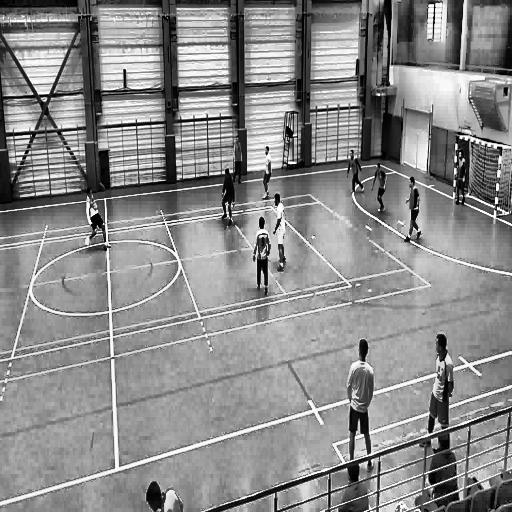ball: (102, 240, 109, 252)
player: (344, 336, 376, 478), (418, 331, 454, 450), (83, 185, 113, 249), (252, 215, 272, 299), (404, 175, 425, 244), (272, 191, 288, 275), (344, 148, 366, 198), (220, 166, 237, 230), (370, 160, 388, 216), (454, 148, 468, 210), (260, 144, 274, 200), (232, 135, 244, 188)
